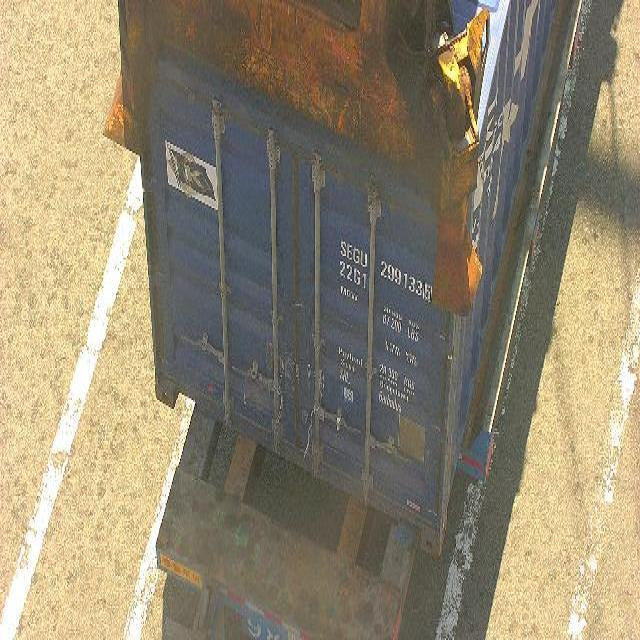ISO: (338, 260, 368, 292)
container_number: (340, 236, 432, 302)
